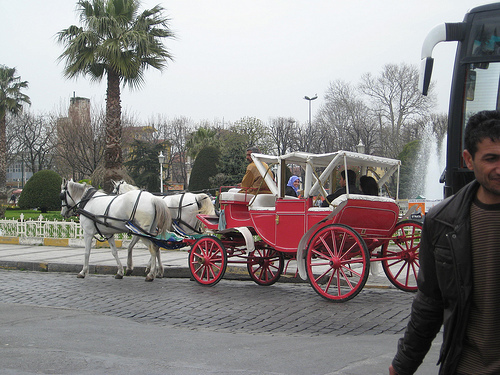horse: (57, 178, 173, 283), (108, 175, 221, 273)
